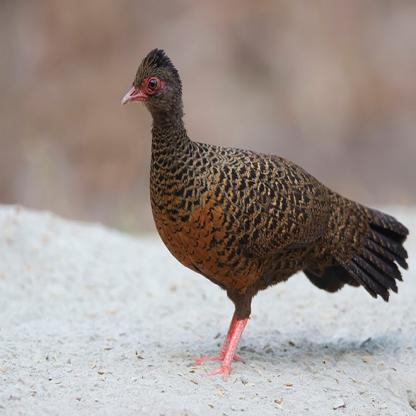Burung: (121, 49, 407, 372)
